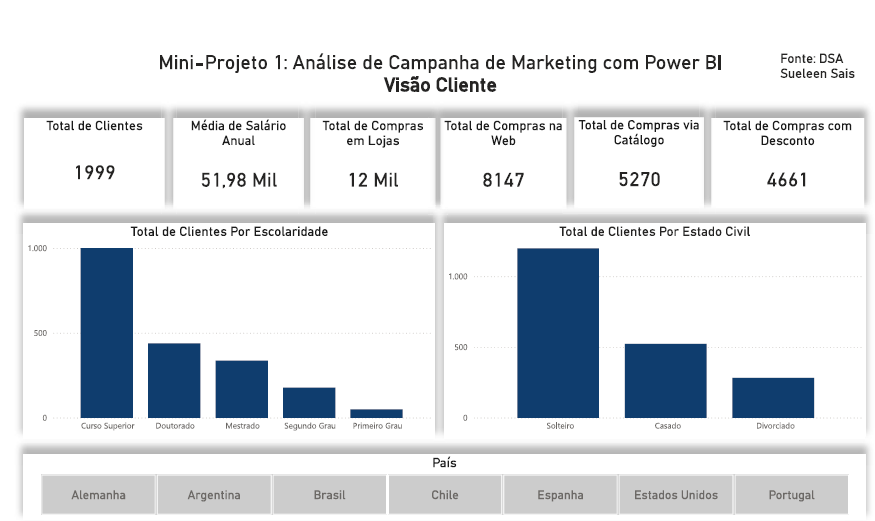

This screenshot's page, from the dashboard's own definition file:
{"tool":"powerbi","page":{"name":"Visão Cliente","canvas":[1280,720],"ordinal":0},"visuals":[{"type":"card","title":"Total de Clientes","fields":{"Values":["CountNonNull(DadosMarketing.ID)"]},"box":[22.9,104.3,208.6,134.3],"z":0},{"type":"card","title":"Média de Salário Anual","fields":{"Values":["Avg(DadosMarketing.Salario Anual)"]},"box":[242.9,104.3,192.9,134.3],"z":1000},{"type":"card","title":"Total de Compras em Lojas","fields":{"Values":["Sum(DadosMarketing.Numero de Compras na Loja)"]},"box":[445,103.8,185,135],"z":2000},{"type":"card","title":"Total de Compras na Web","fields":{"Values":["Sum(DadosMarketing.Numero de Compras na Web)"]},"box":[637.1,104.3,185.7,134.3],"z":3000},{"type":"card","title":"Total de Compras com Desconto","fields":{"Values":["Sum(DadosMarketing.Numero de Compras com Desconto)"]},"box":[1036,104,226,134],"z":4000},{"type":"card","title":"Total de Compras via Catálogo","fields":{"Values":["Sum(DadosMarketing.Numero de Compras via Catalogo)"]},"box":[833.8,102.5,192.5,135],"z":5000},{"type":"textbox","box":[162.5,0,948.8,76.2],"z":6000},{"type":"columnChart","title":"Total de Clientes Por Escolaridade","fields":{"Category":["DadosMarketing.Escolaridade"],"Y":["CountNonNull(DadosMarketing.ID)"]},"box":[22.9,260,605.7,315.7],"z":7000},{"type":"columnChart","title":"Total de Clientes Por Estado Civil","fields":{"Category":["DadosMarketing.Estado Civil"],"Y":["CountNonNull(DadosMarketing.ID)"]},"box":[642.9,260,620,315.7],"z":8000},{"type":"slicer","title":"País","fields":{"Values":["DadosMarketing.Pais"]},"box":[22.5,601.2,1240,95],"z":9000},{"type":"textbox","box":[1132.5,0,130,57.5],"z":10000}]}

Visuals, with their boxes on the page's 1280x720 design canvas (x1, y1, x2, y2). These are canvas units, not pixel positions in the 875x521 screenshot, which may show the page scaled, cropped or inside an application window:
"Total de Clientes" card: (x1=23, y1=104, x2=232, y2=239)
"Média de Salário Anual" card: (x1=243, y1=104, x2=436, y2=239)
"Total de Compras em Lojas" card: (x1=445, y1=104, x2=630, y2=239)
"Total de Compras na Web" card: (x1=637, y1=104, x2=823, y2=239)
"Total de Compras com Desconto" card: (x1=1036, y1=104, x2=1262, y2=238)
"Total de Compras via Catálogo" card: (x1=834, y1=102, x2=1026, y2=238)
textbox: (x1=162, y1=0, x2=1111, y2=76)
"Total de Clientes Por Escolaridade" columnChart: (x1=23, y1=260, x2=629, y2=576)
"Total de Clientes Por Estado Civil" columnChart: (x1=643, y1=260, x2=1263, y2=576)
"País" slicer: (x1=22, y1=601, x2=1262, y2=696)
textbox: (x1=1132, y1=0, x2=1262, y2=58)
